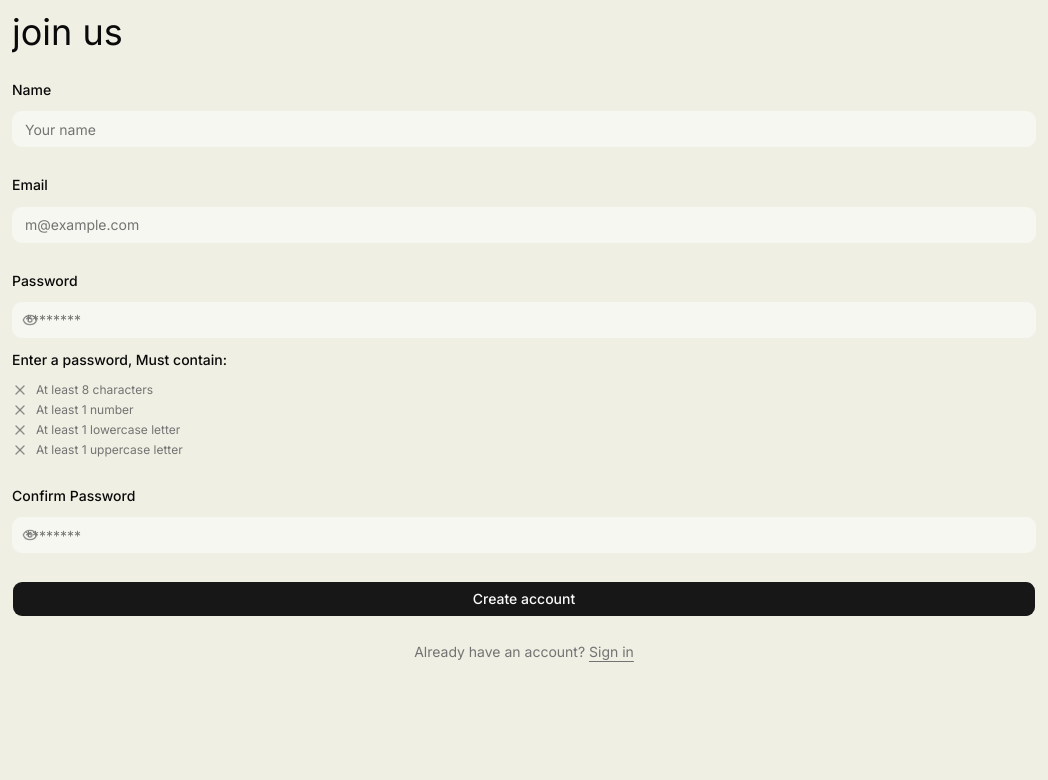
Test: RegisterForm › Password strength indicator › shows 'Medium password' for 'Abc1' (3 requirements met)
The image size is (1048, 780).
Step 1. Type "Abc1" into the password field labelled "Password" → (524, 320), box x1=12 y1=302 x2=1036 y2=338
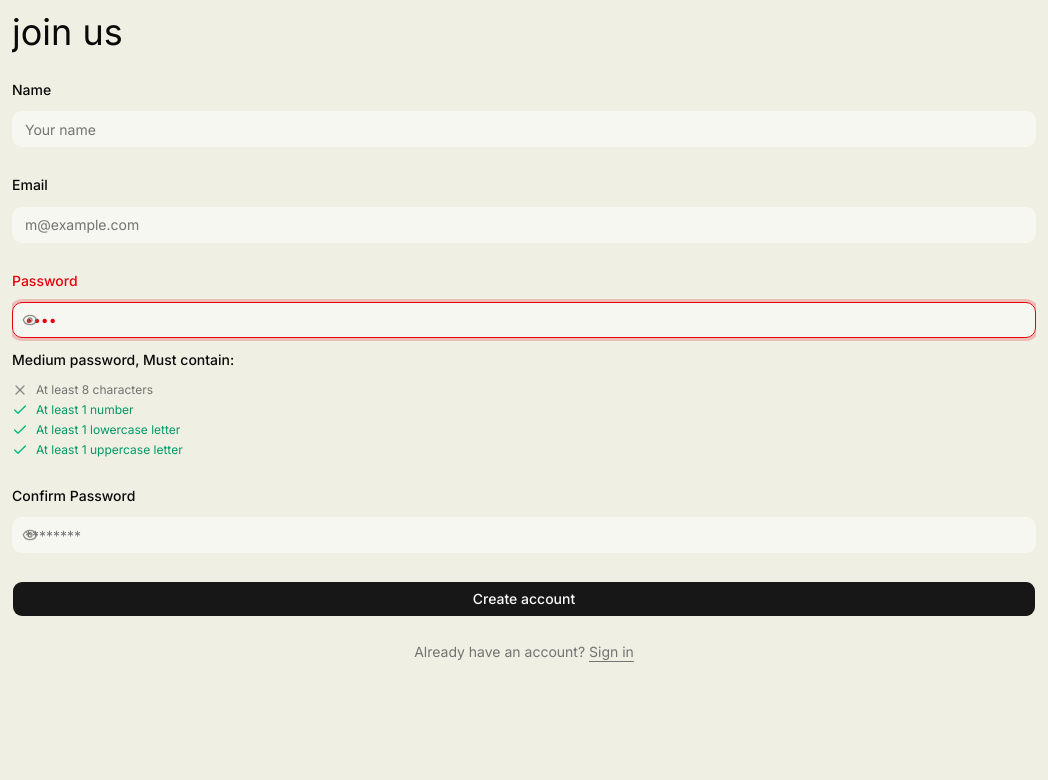
Expected: the text "Medium password, Must contain:" is shown, x1=12 y1=351 x2=234 y2=368
